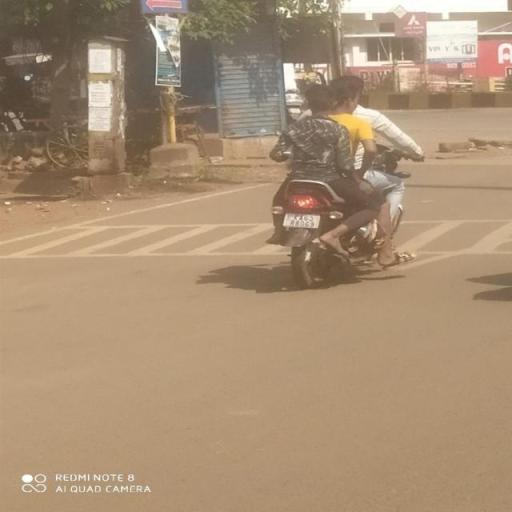tripple riding: (268, 65, 422, 177)
